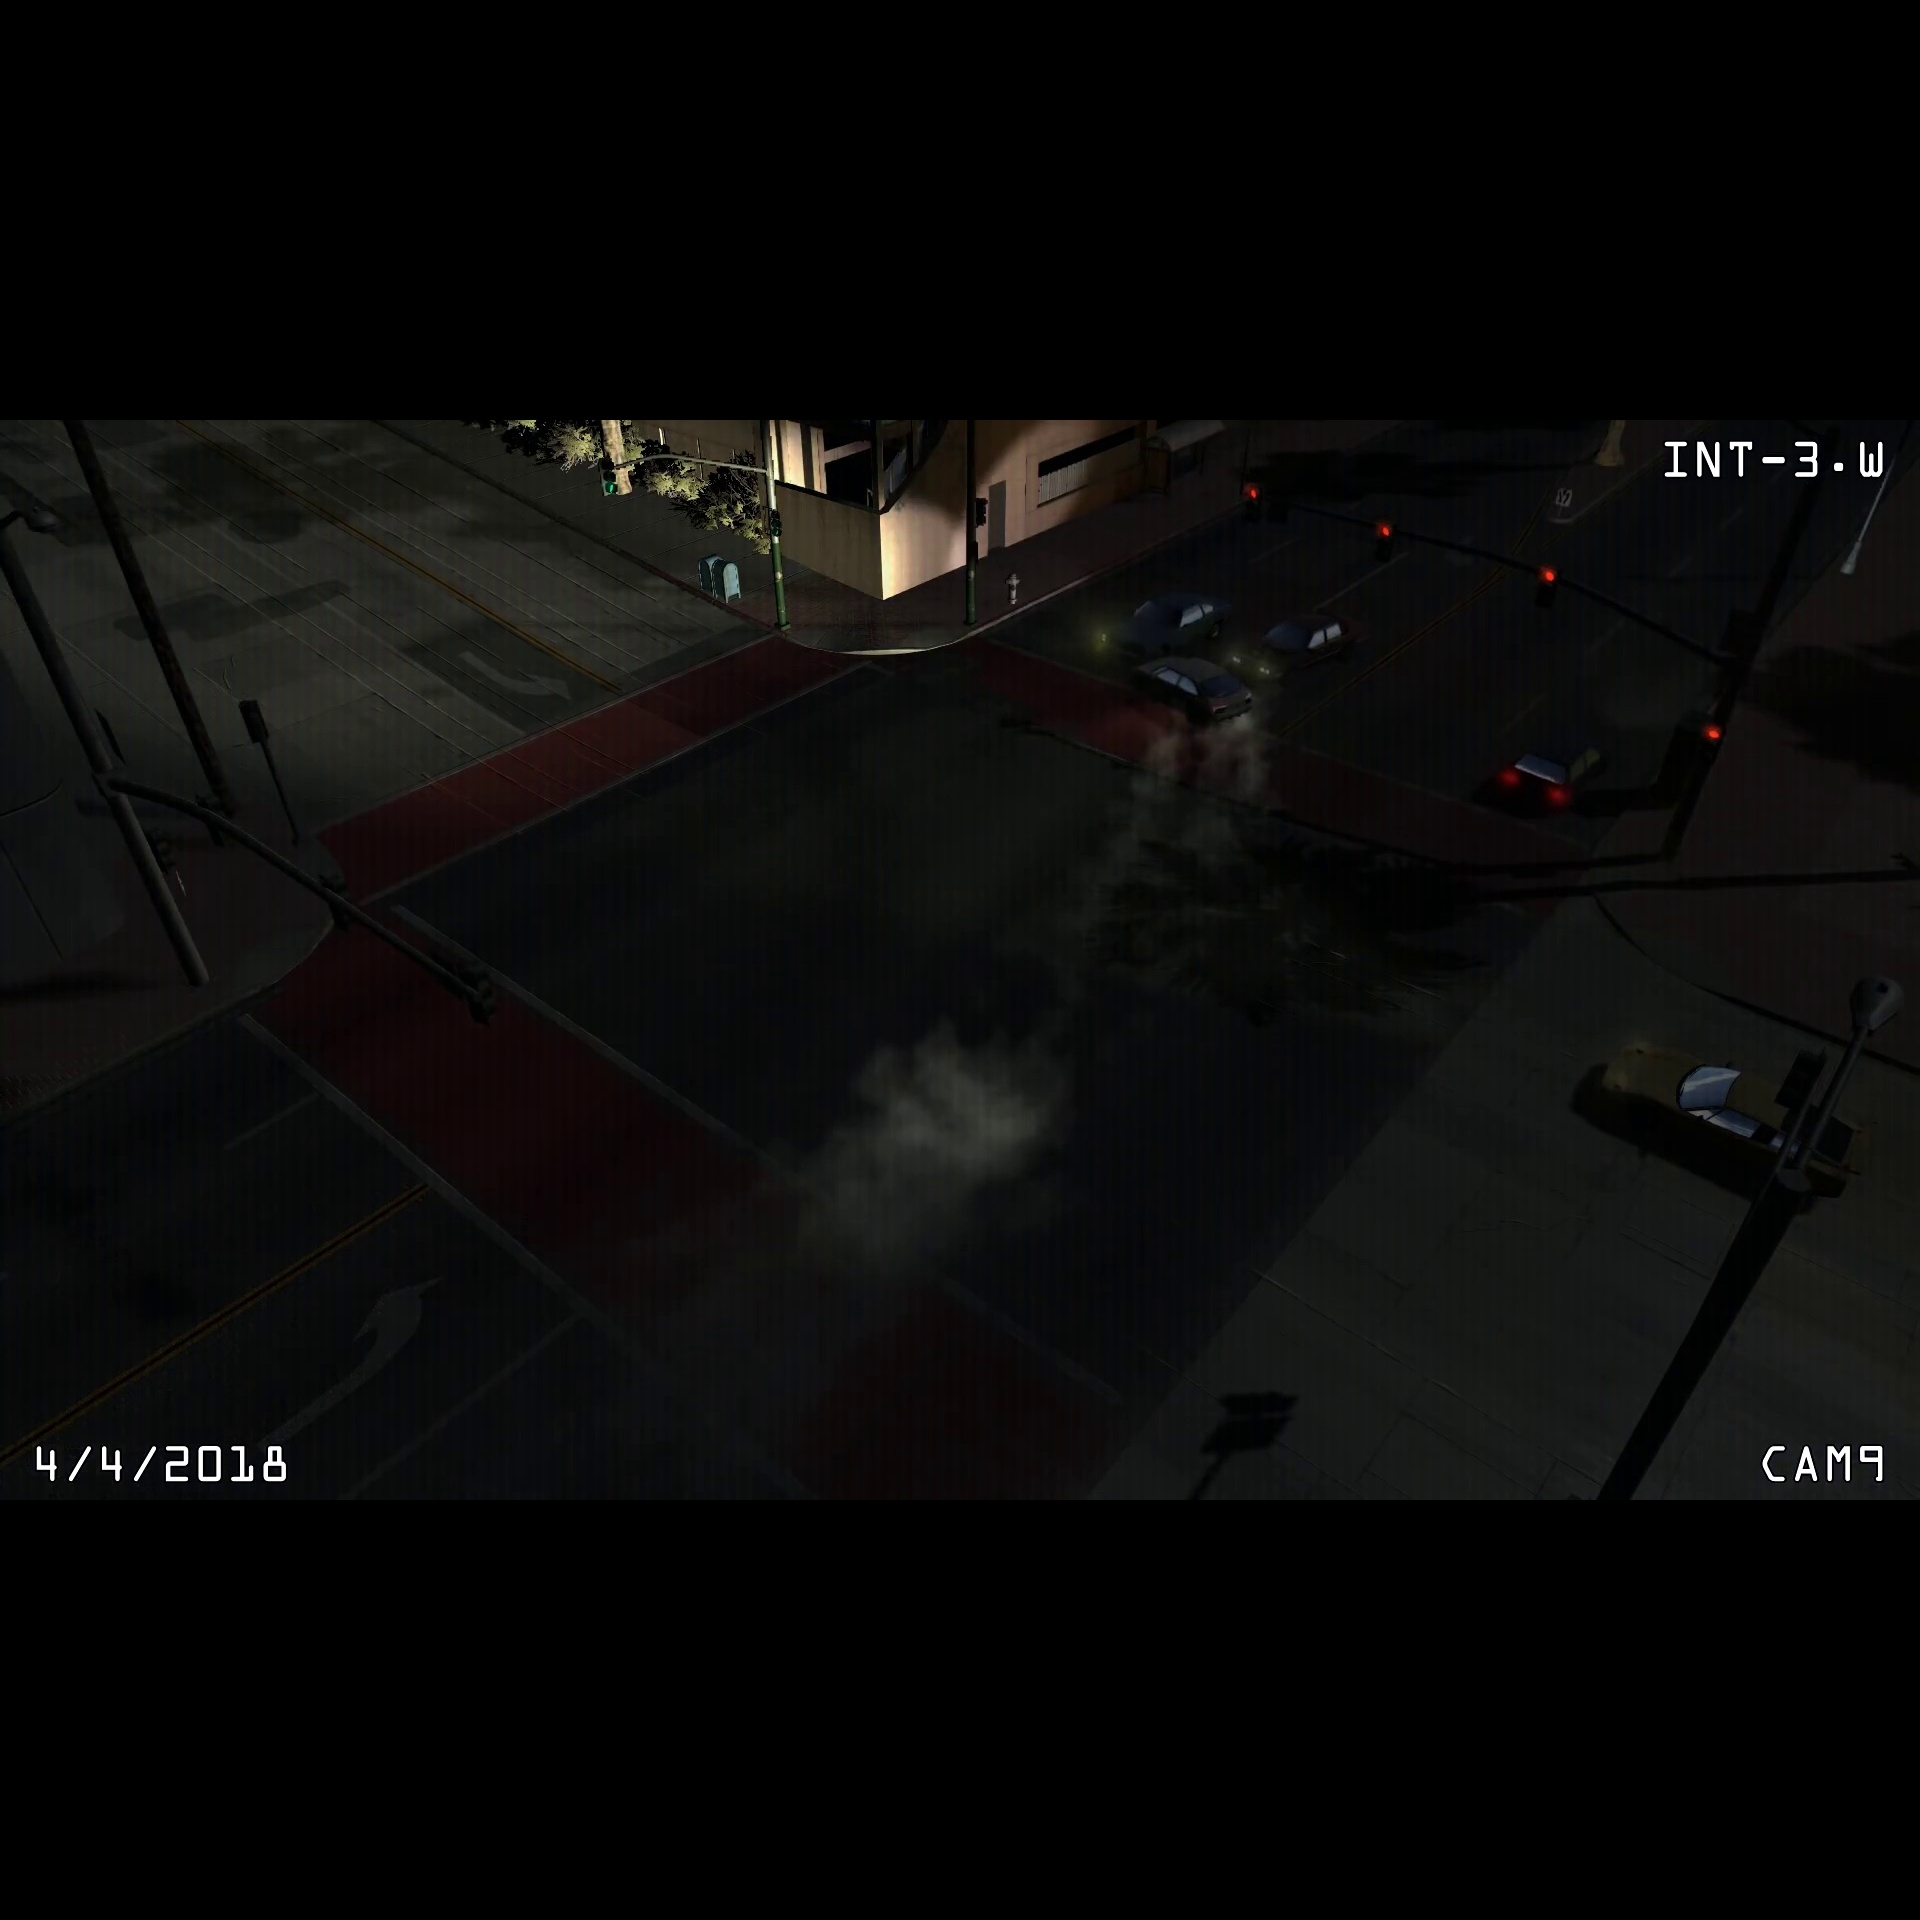vehicle: (1584, 1025, 1874, 1206), (1111, 642, 1261, 737), (1489, 726, 1618, 819), (1097, 585, 1240, 666), (1240, 603, 1368, 687)
